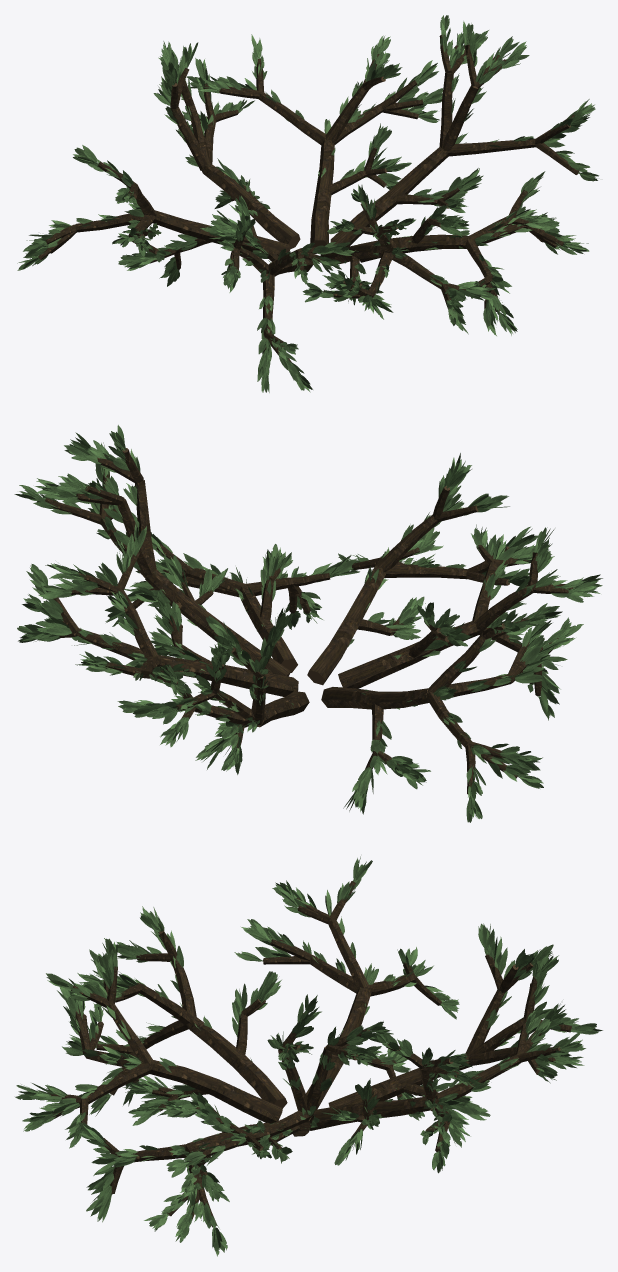
Rendered from juniper_low_v02.fbx.
3 renders of one model, top to bottom at view 1: azimuth 30°, elevation 25°; view 2: azimuth 150°, elevation 25°; view 3: azimuth 270°, elevation 25°, orthographic. The views are drawn at different scales.
Parts seen in each view (by area): view 1: juniper_low_v02; view 2: juniper_low_v02; view 3: juniper_low_v02.
Part boxes in pixels (x1,y1,x2,y2): juniper_low_v02: (17,15,598,392); juniper_low_v02: (14,425,602,822); juniper_low_v02: (15,856,602,1256).
Bounding box in the file's own units: 167 × 75.36 × 149.
Materials: 2 (2 with a texture image).
